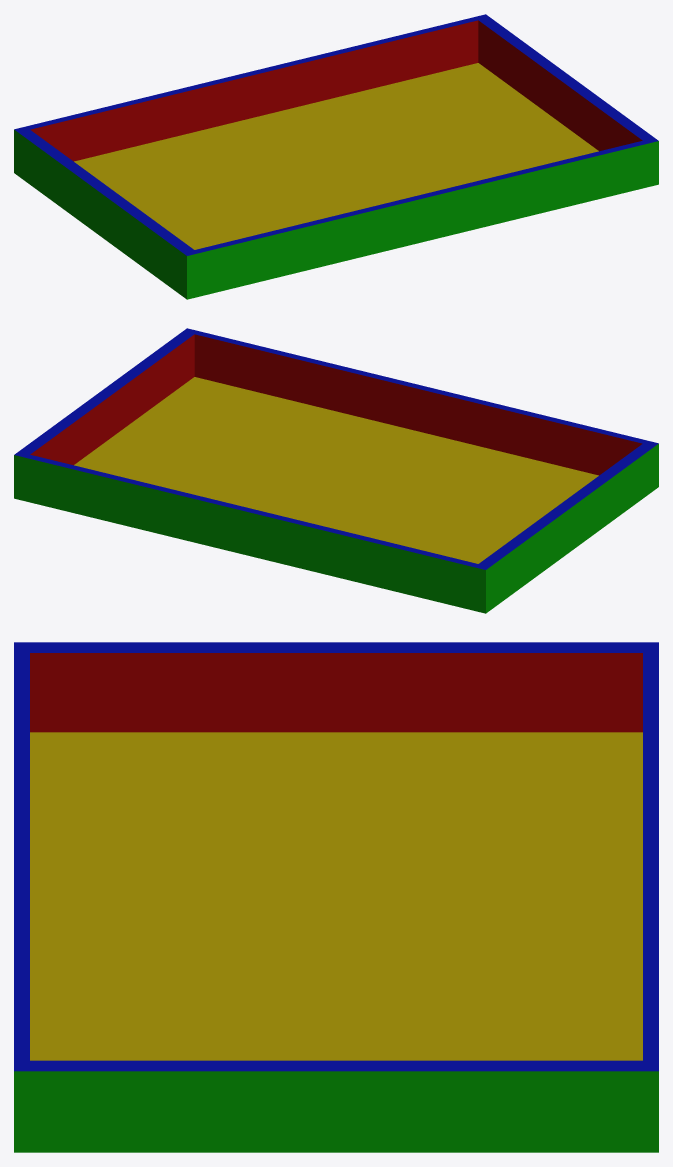
File: board.obj
3 renders of one model, top to bottom at view 1: azimuth 30°, elevation 25°; view 2: azimuth 150°, elevation 25°; view 3: azimuth 270°, elevation 25°, orthographic. The views are drawn at different scales.
Visible parts, largest first — view 1: Cube; view 2: Cube; view 3: Cube.
Part boxes in pixels (x1,y1,x2,y2): Cube: (14, 14, 658, 299); Cube: (14, 328, 658, 613); Cube: (14, 642, 658, 1152).
Bounding box in the file's own units: 13.17 × 1.16 × 8.37.
